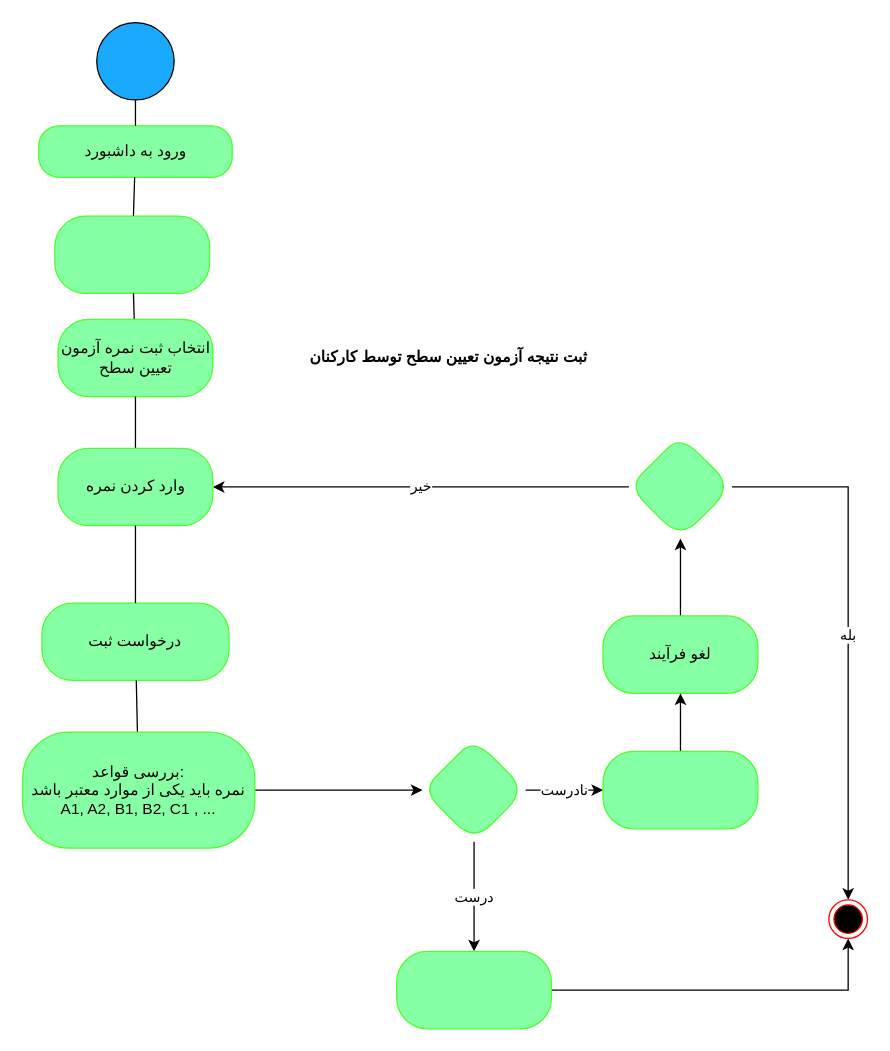
This 890x1051 diagram has some shape labels left out. Each missing label, with the box of its shape:
انتخاب دانش آموز: (54, 215, 210, 293)
ثبت در دیتابیس: (395, 950, 551, 1029)
نمایش پیغام خطای مناسب: (602, 750, 758, 829)
